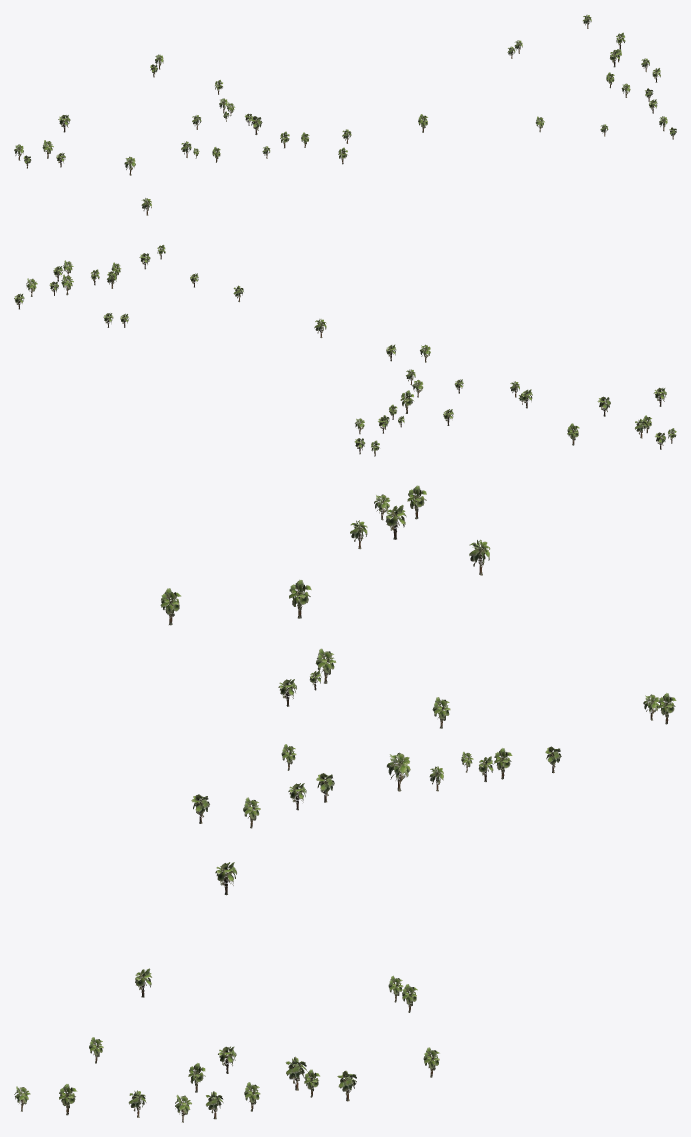
Rendered from Palmera05.glb.
3 renders of one model, top to bottom at view 1: azimuth 30°, elevation 25°; view 2: azimuth 150°, elevation 25°; view 3: azimuth 270°, elevation 25°, orthographic. The views are drawn at different scales.
Visible parts, largest first — view 1: Palmera05Web; view 2: Palmera05Web; view 3: Palmera05Web.
Boxes of the visible parts, left/top/right/bottom form: Palmera05Web: left=14, top=14, right=676, bottom=215; Palmera05Web: left=14, top=244, right=676, bottom=456; Palmera05Web: left=14, top=485, right=676, bottom=1122.
Bounding box in the file's own units: 311 × 29.23 × 156.
Materials: 1 (1 with a texture image).
